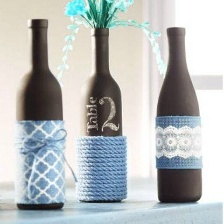bottle: (9, 16, 69, 215), (72, 25, 135, 207), (148, 24, 210, 207)
